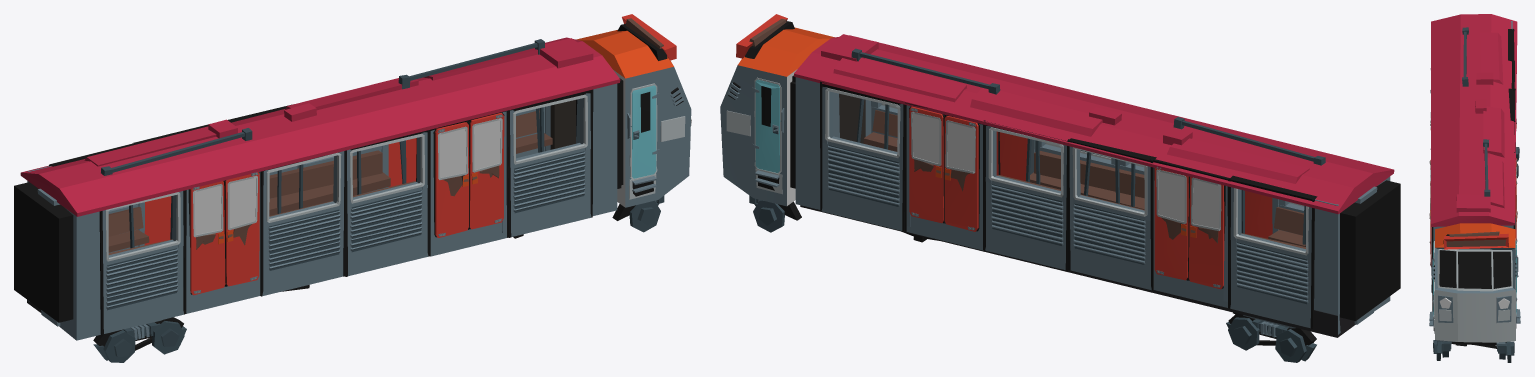
Rendered from NY_deadTrainCars.fbx.
3 renders of one model, left to right at view 1: azimuth 30°, elevation 25°; view 2: azimuth 150°, elevation 25°; view 3: azimuth 270°, elevation 25°, orthographic. The views are drawn at different scales.
Visible parts, largest first — view 1: car, front, glass, doubleWheels, singleWheels; view 2: car, front, glass, doubleWheels, singleWheels; view 3: car, front, singleWheels.
Boxes of the visible parts, box(x1,y1,x2,y2) form: car: box(14, 37, 623, 340); front: box(576, 14, 691, 207); glass: box(194, 120, 500, 234); doubleWheels: box(93, 317, 186, 362); singleWheels: box(612, 195, 664, 232); car: box(792, 34, 1400, 337); front: box(720, 14, 834, 206); glass: box(912, 113, 1219, 228); doubleWheels: box(1226, 313, 1316, 362); singleWheels: box(749, 195, 801, 232); car: box(1429, 14, 1517, 311); front: box(1429, 223, 1520, 342); singleWheels: box(1433, 340, 1514, 362).
Size of the model in its own units: 884 by 252 by 143.
